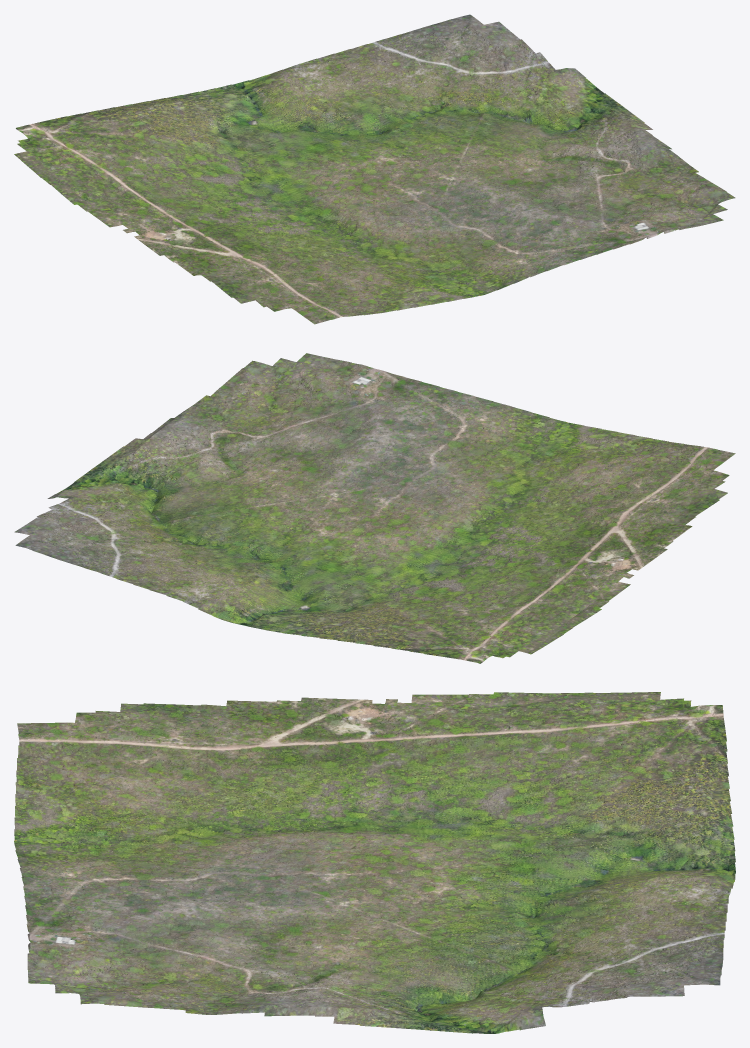
Rendered from pedra-furada-terreno.glb.
3 views of the same model, one above another, from view 1: azimuth 30°, elevation 25°; view 2: azimuth 150°, elevation 25°; view 3: azimuth 270°, elevation 25° (orthographic). The views are drawn at different scales.
Visible parts, largest first — view 1: Node; view 2: Node; view 3: Node.
Boxes of the visible parts, x1,y1,x2,y2 form: Node: (14,14,735,324); Node: (14,353,735,663); Node: (14,692,735,1033).
Size of the model in its own units: 660 by 38.02 by 613.
1 material, 1 textured.
